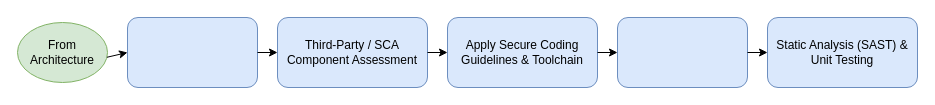
The diagram is 935 pixels wide and 105 high, and some of its shapes have lost their labels. Each missing label, with the box of its shape:
Implementation & Code Reviews: (616, 16, 748, 88)
Technical Specs (SW / HW / FW): (126, 16, 258, 88)
